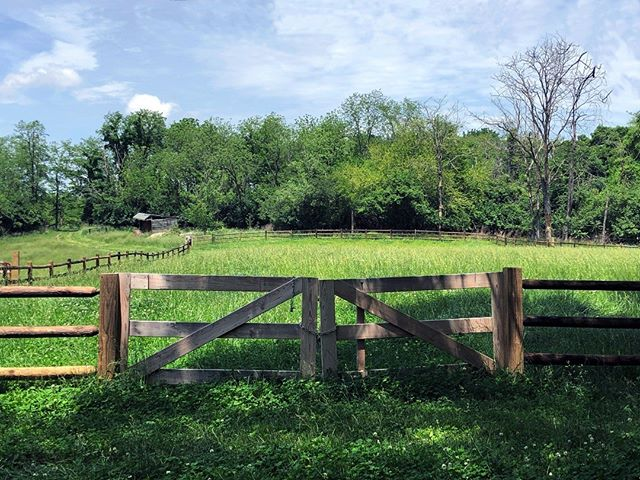gate: (115, 273, 510, 391)
grass: (1, 382, 640, 480)
sky: (11, 1, 640, 111)
vegetation: (1, 117, 632, 226)
